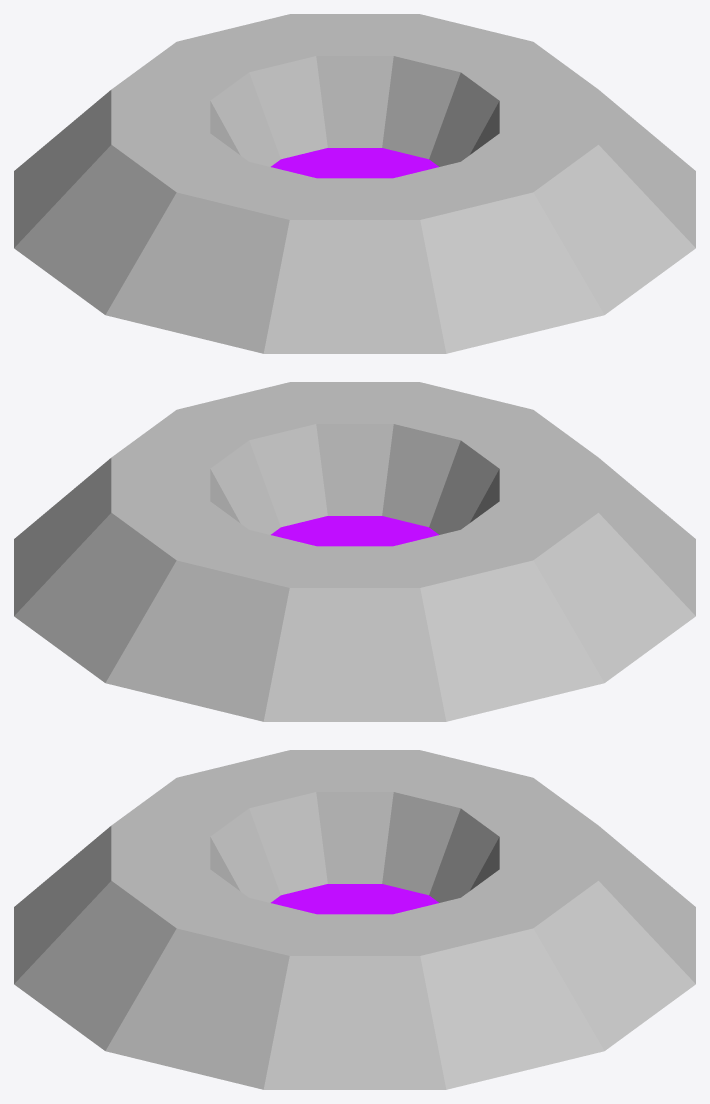
Rendered from Hologram.fbx.
3 views of the same model, one above another, from view 1: azimuth 30°, elevation 25°; view 2: azimuth 150°, elevation 25°; view 3: azimuth 270°, elevation 25° (orthographic).
Parts seen in each view (by area): view 1: Cylinder.007; view 2: Cylinder.007; view 3: Cylinder.007.
Part boxes in pixels (<box>): Cylinder.007: <box>14,14,695,353</box>; Cylinder.007: <box>14,382,695,721</box>; Cylinder.007: <box>14,750,695,1089</box>.
Size of the model in its own units: 482 by 72.27 by 482.
